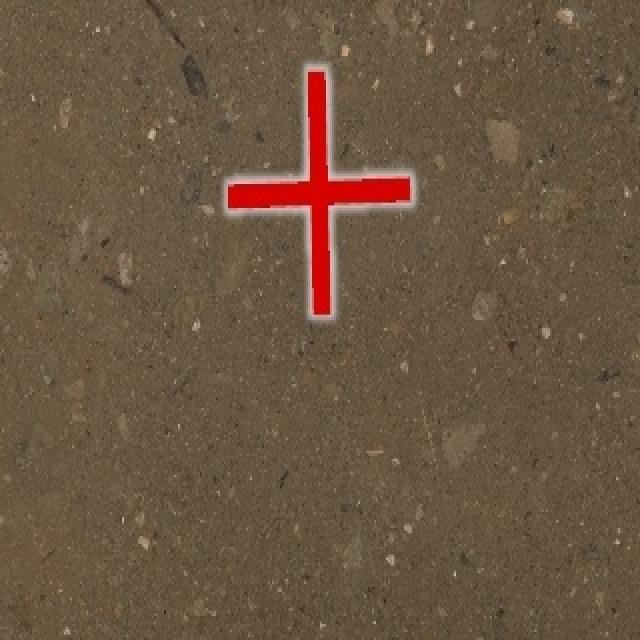x_marker: (227, 68, 411, 313)
